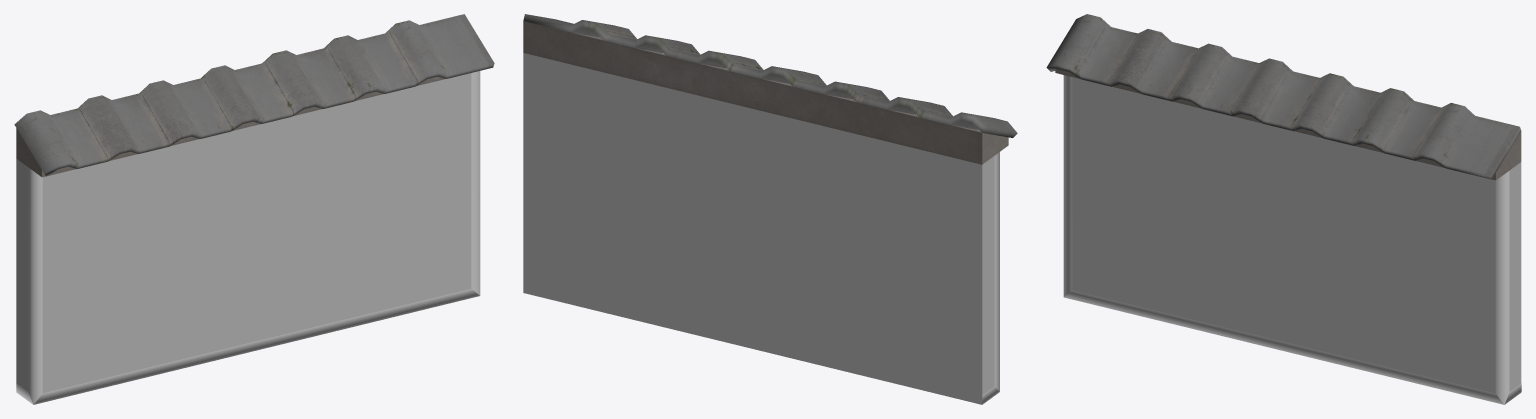
The model's file is Extension_B.fbx.
3 views of the same model, side by side, from view 1: azimuth 30°, elevation 25°; view 2: azimuth 150°, elevation 25°; view 3: azimuth 330°, elevation 25° (orthographic). The views are drawn at different scales.
Parts seen in each view (by area): view 1: Extension_B; view 2: Extension_B; view 3: Extension_B.
Boxes of the visible parts, left/top/right/bottom form: Extension_B: left=14, top=14, right=494, bottom=404; Extension_B: left=523, top=14, right=1017, bottom=404; Extension_B: left=1046, top=14, right=1521, bottom=404.
Size of the model in its own units: 302 by 178 by 38.78.
